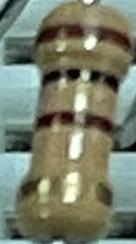Black: (40, 64, 120, 94)
Brown: (35, 24, 134, 58), (34, 109, 115, 142)
Side-Gold: (15, 170, 112, 210)
